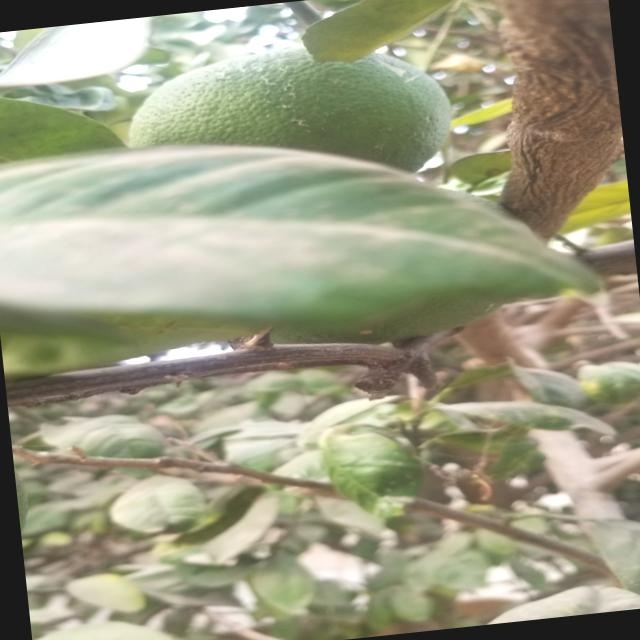agrume: (129, 33, 462, 202)
